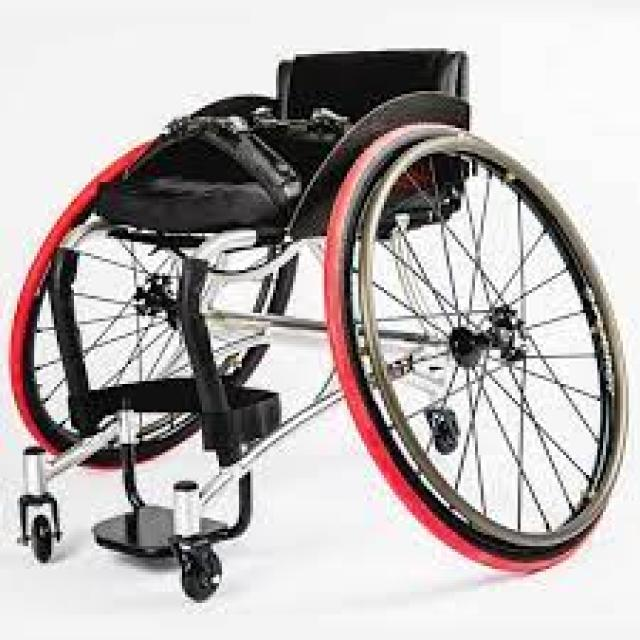wheelchairs: (3, 17, 626, 620)
